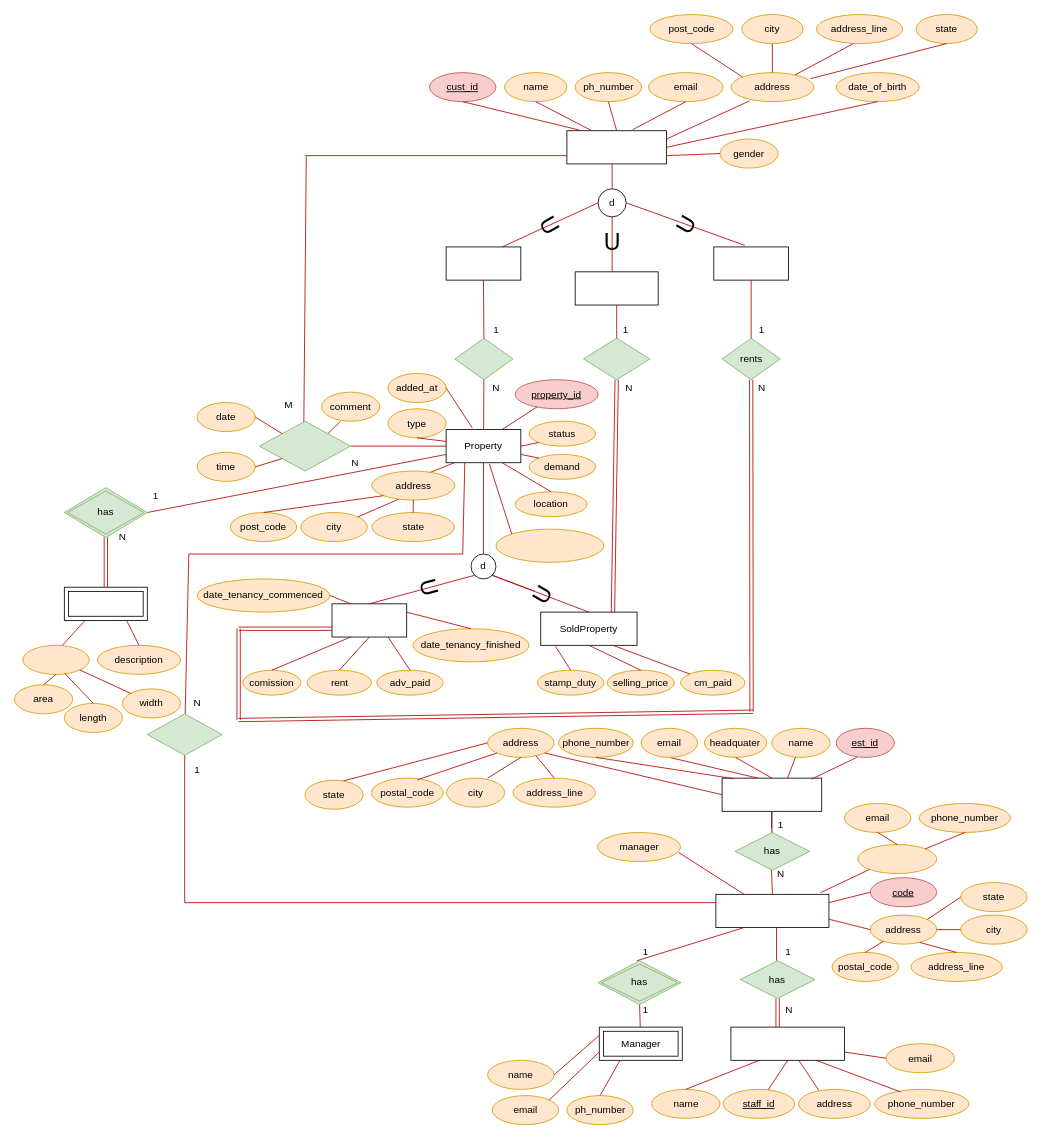
The diagram is 1042 pixels wide and 1140 high, and some of its shapes have lost their labels. The shapes that lost their labels are listed below. From the top down, each one's centre as x and y in pixels, then its label:
At [616,147]: "Customer".
At [483,263]: "Owner".
At [750,263]: "Tenant".
At [616,288]: "Buyer".
At [483,358]: "register".
At [616,358]: "buys".
At [305,445]: "View".
At [549,545]: "number_of_rooms".
At [105,603]: "Accomodation".
At [369,620]: "RentProperty".
At [55,659]: "size".
At [184,734]: "register with".
At [771,794]: "EstateAgent".
At [897,859]: "contact_details".
At [772,910]: "Branch".
At [787,1043]: "Staff".
